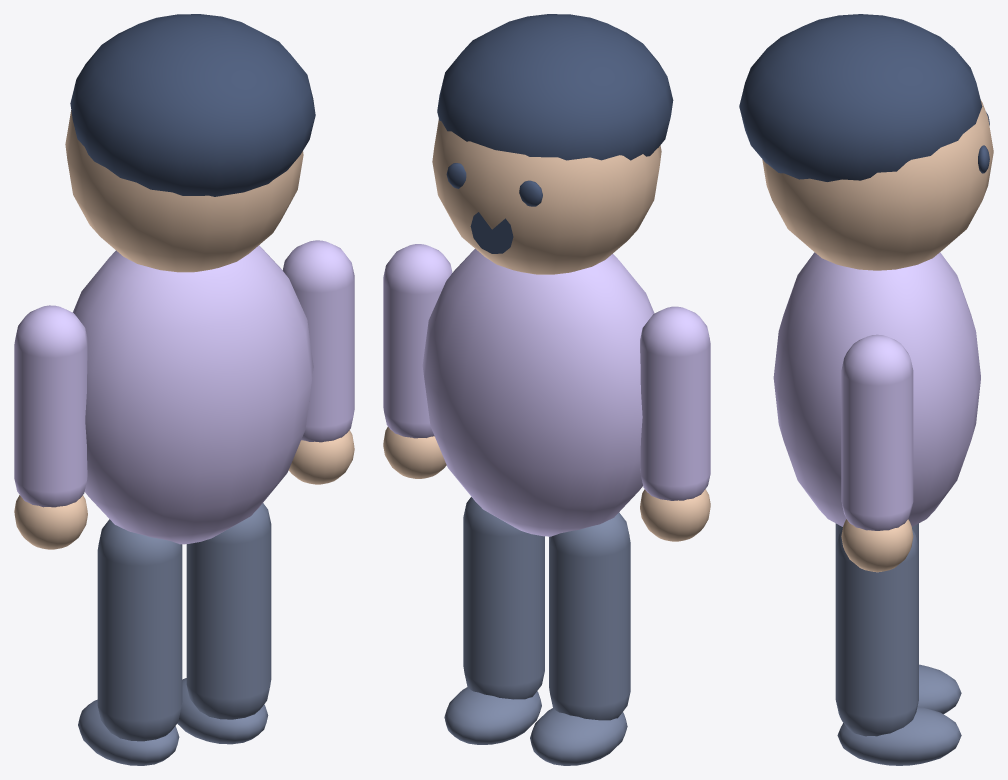
The model's file is character.glb.
3 views of the same model, side by side, from view 1: azimuth 30°, elevation 25°; view 2: azimuth 150°, elevation 25°; view 3: azimuth 270°, elevation 25° (orthographic). The views are drawn at different scales.
Parts seen in each view (by area): view 1: body, legs, hair, skin; view 2: body, legs, hair, skin, face; view 3: body, hair, skin, legs.
Part boxes in pixels (box(x1,y1,x2,y2)): body: box(14, 240, 354, 544); legs: box(78, 503, 271, 765); hair: box(70, 14, 315, 196); skin: box(14, 110, 354, 549); body: box(383, 244, 710, 536); legs: box(444, 497, 630, 765); hair: box(437, 14, 673, 160); skin: box(383, 119, 710, 541); face: box(446, 163, 542, 253); body: box(773, 252, 980, 530); hair: box(739, 14, 982, 181); skin: box(762, 100, 993, 572); legs: box(835, 523, 961, 765).
Size of the model in its own units: 0.67 by 1.41 by 0.4593.
